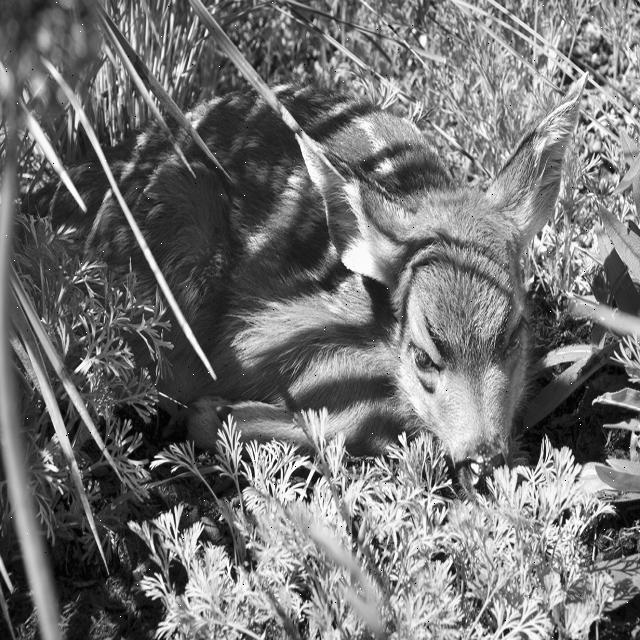deer: (308, 101, 566, 460)
